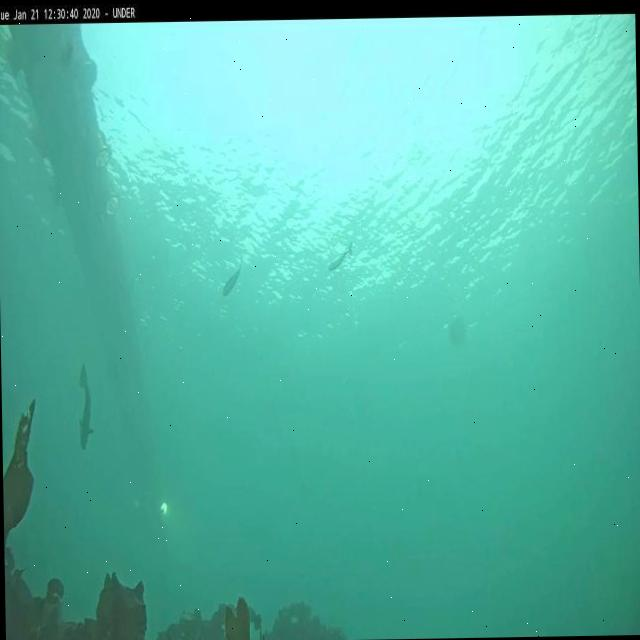fish: (76, 357, 92, 449), (221, 253, 244, 296), (328, 240, 353, 271)
